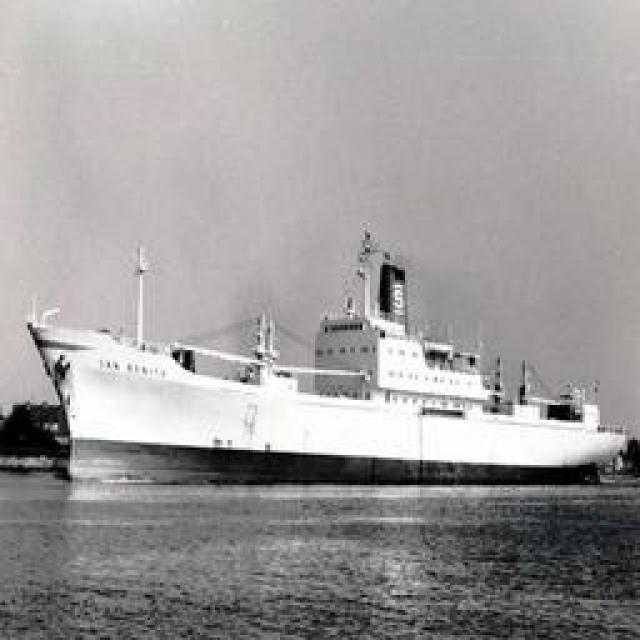Ship: (16, 219, 624, 481)
